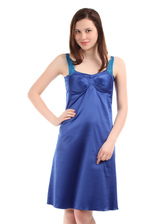clothoes: (45, 47, 125, 213)
